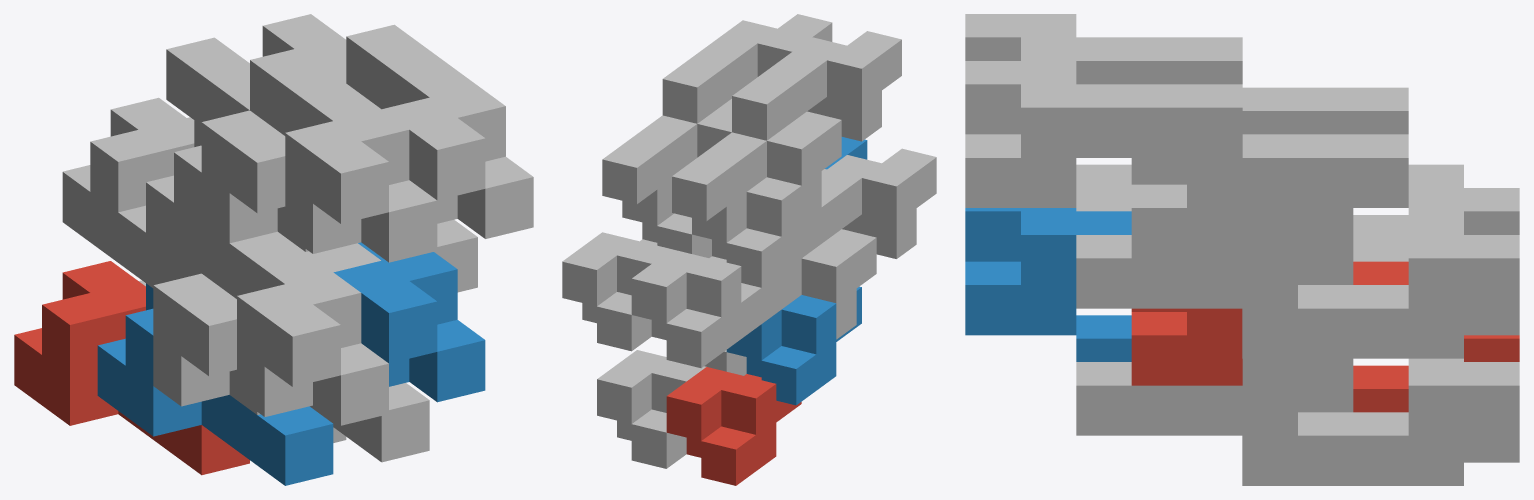
File: tiling.obj
The picture shows the model from 3 angles, left to right: view 1: azimuth 30°, elevation 25°; view 2: azimuth 150°, elevation 25°; view 3: azimuth 270°, elevation 25°; orthographic projection. The views are drawn at different scales.
Visible parts, largest first — view 1: copy_2_domain_4, copy_2_domain_2, copy_2_domain_8, copy_2_domain_3, copy_1_domain_1, copy_1_domain_2, copy_2_domain_6, copy_2_domain_1, copy_1_domain_3, copy_1_domain_4, copy_1_domain_6, copy_2_domain_7 (+1 smaller); view 2: copy_2_domain_4, copy_2_domain_3, copy_1_domain_1, copy_1_domain_3, copy_2_domain_2, copy_2_domain_8, copy_1_domain_2, copy_1_domain_4, copy_1_domain_7, copy_2_domain_1, copy_1_domain_5, copy_2_domain_7 (+3 smaller); view 3: copy_2_domain_8, copy_1_domain_7, copy_1_domain_5, copy_2_domain_7, copy_1_domain_8, copy_1_domain_6, copy_2_domain_6, copy_2_domain_4, copy_2_domain_5, copy_2_domain_3, copy_1_domain_3, copy_1_domain_1 (+4 smaller).
Boxes of the visible parts, <box> form: copy_2_domain_4: <box>250,48,437,262</box>; copy_2_domain_2: <box>201,223,388,425</box>; copy_2_domain_8: <box>346,24,533,238</box>; copy_2_domain_3: <box>166,37,308,251</box>; copy_1_domain_1: <box>14,261,249,475</box>; copy_1_domain_2: <box>97,283,333,485</box>; copy_2_domain_6: <box>333,242,485,402</box>; copy_2_domain_1: <box>118,205,260,414</box>; copy_1_domain_3: <box>62,97,194,262</box>; copy_1_domain_4: <box>146,120,380,272</box>; copy_1_domain_6: <box>310,383,429,462</box>; copy_2_domain_7: <box>262,14,346,82</box>; copy_2_domain_4: <box>732,31,901,141</box>; copy_2_domain_3: <box>672,111,841,221</box>; copy_1_domain_1: <box>666,367,801,485</box>; copy_1_domain_3: <box>631,249,741,368</box>; copy_2_domain_2: <box>801,148,936,258</box>; copy_2_domain_8: <box>662,14,832,123</box>; copy_1_domain_2: <box>726,286,861,405</box>; copy_1_domain_4: <box>692,169,826,287</box>; copy_1_domain_7: <box>562,232,671,351</box>; copy_2_domain_1: <box>741,229,876,339</box>; copy_1_domain_5: <box>597,350,706,468</box>; copy_2_domain_7: <box>602,99,731,204</box>; copy_2_domain_8: <box>965,61,1242,207</box>; copy_1_domain_7: <box>1242,211,1519,358</box>; copy_1_domain_5: <box>1242,358,1519,485</box>; copy_2_domain_7: <box>1131,134,1408,258</box>; copy_1_domain_8: <box>1076,208,1353,308</box>; copy_1_domain_6: <box>1076,358,1353,435</box>; copy_2_domain_6: <box>965,208,1131,335</box>; copy_2_domain_4: <box>965,14,1242,84</box>; copy_2_domain_5: <box>1131,261,1408,385</box>; copy_2_domain_3: <box>1242,87,1408,134</box>; copy_1_domain_3: <box>1353,164,1519,261</box>; copy_1_domain_1: <box>1353,335,1519,412</box>.
Bounding box in the file's own units: 5 × 8 × 10.
